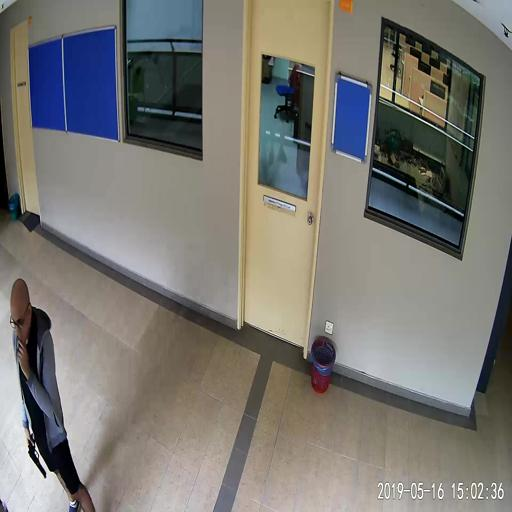pistol: (26, 439, 45, 477)
